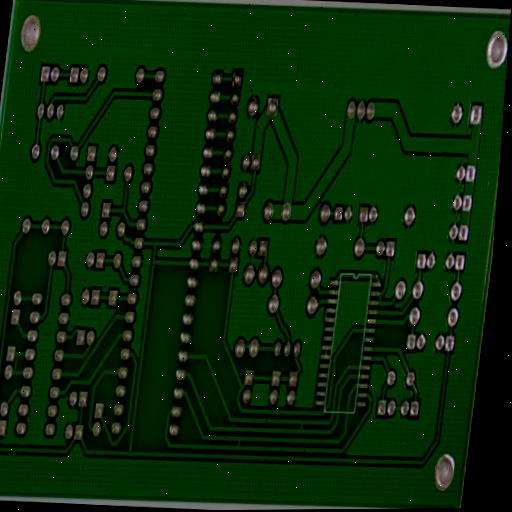short_circuit: (6, 347, 24, 379), (233, 433, 245, 451), (376, 287, 385, 305), (297, 419, 307, 435)
